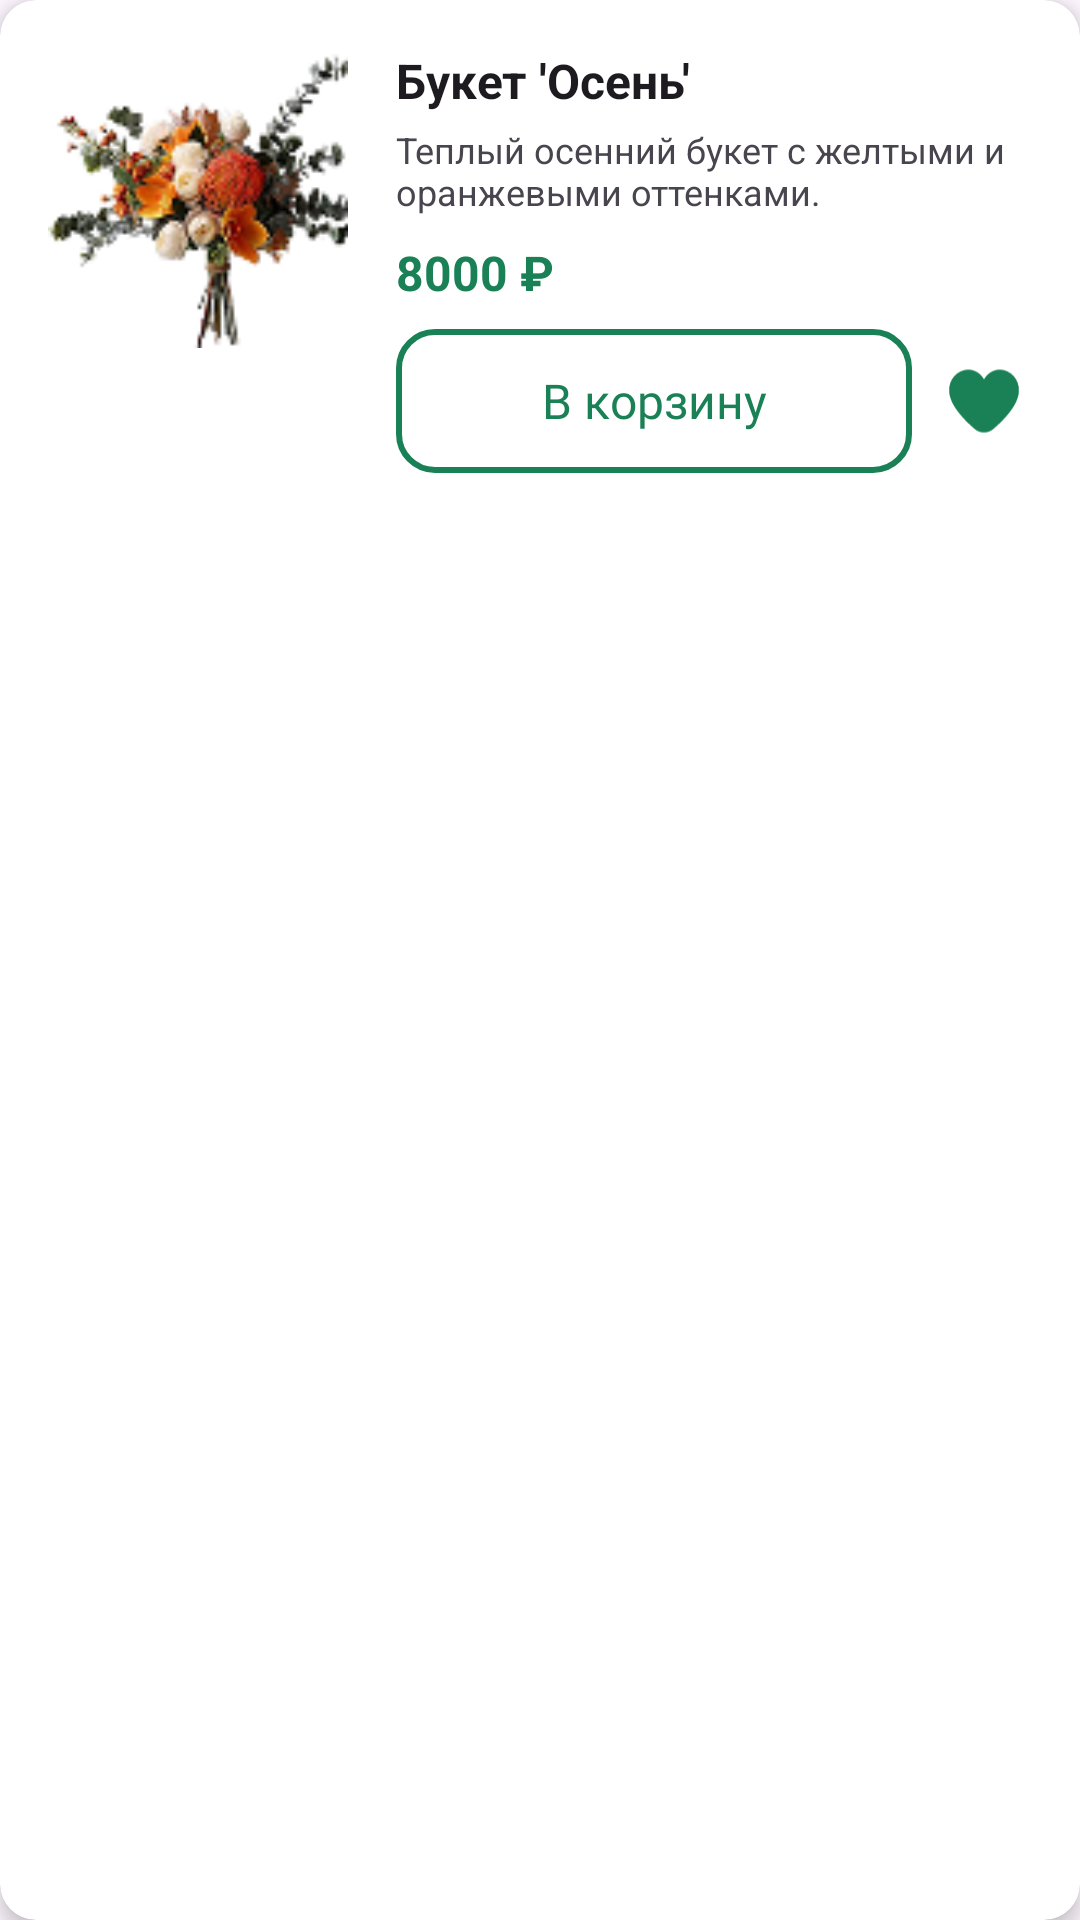

Icons on this 1080*1920 Android screen, each with its box as box=[x1, y1, x2, y2]:
autumn flower: box=[48, 56, 348, 348]
favorites full: box=[949, 369, 1019, 433]
